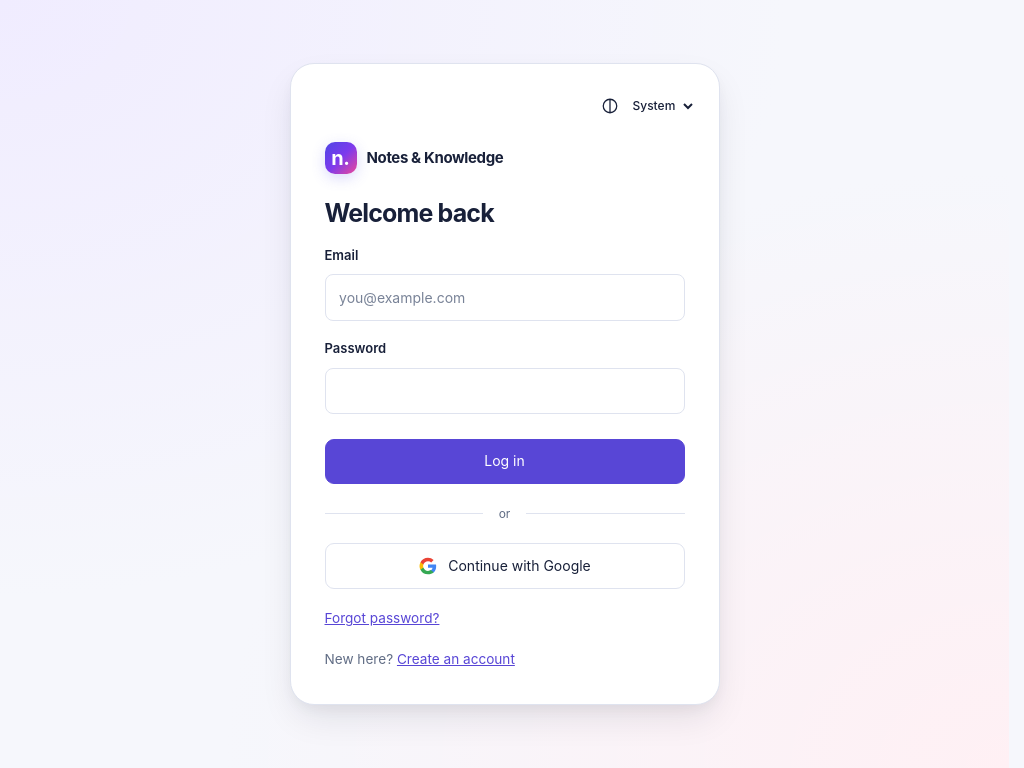
Test: authentication browser journey › logs in without MFA and refreshes CSRF
expect the heading "Welcome back" is shown: met, box [324, 198, 494, 228]
Step 1. Type "person@example.test" into the field labelled "Email" → (504, 298), box [324, 274, 684, 321]
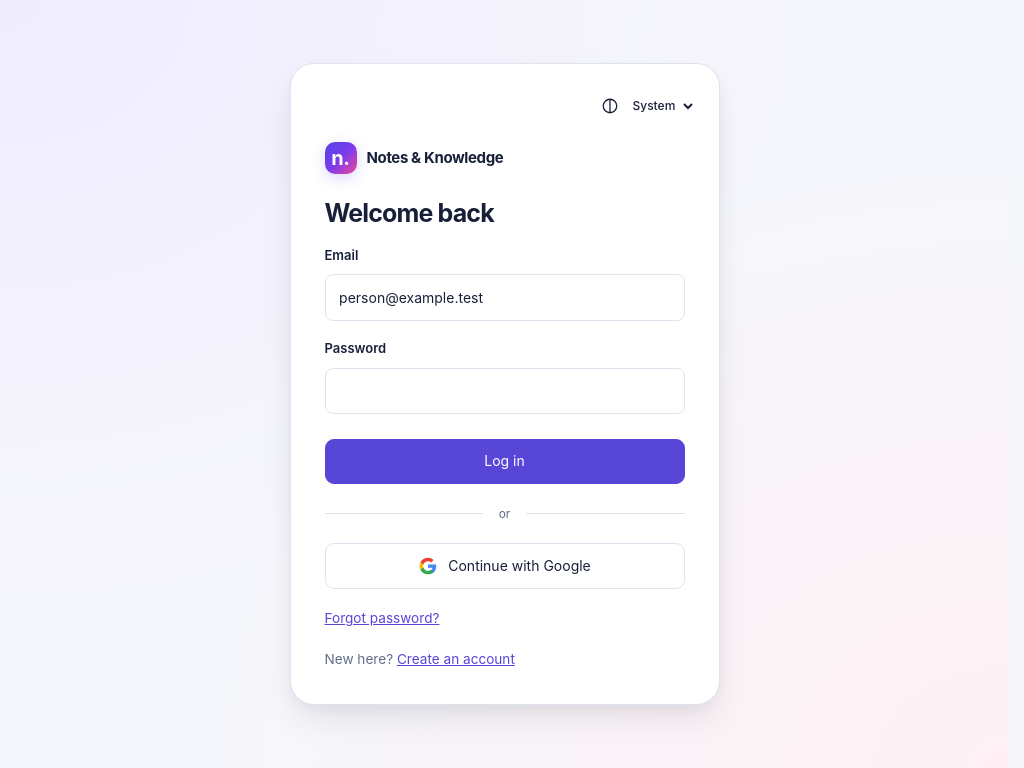
Step 2. Type "Synthetic-password-123!" into the password field labelled "Password" → (504, 391), box [324, 368, 684, 414]
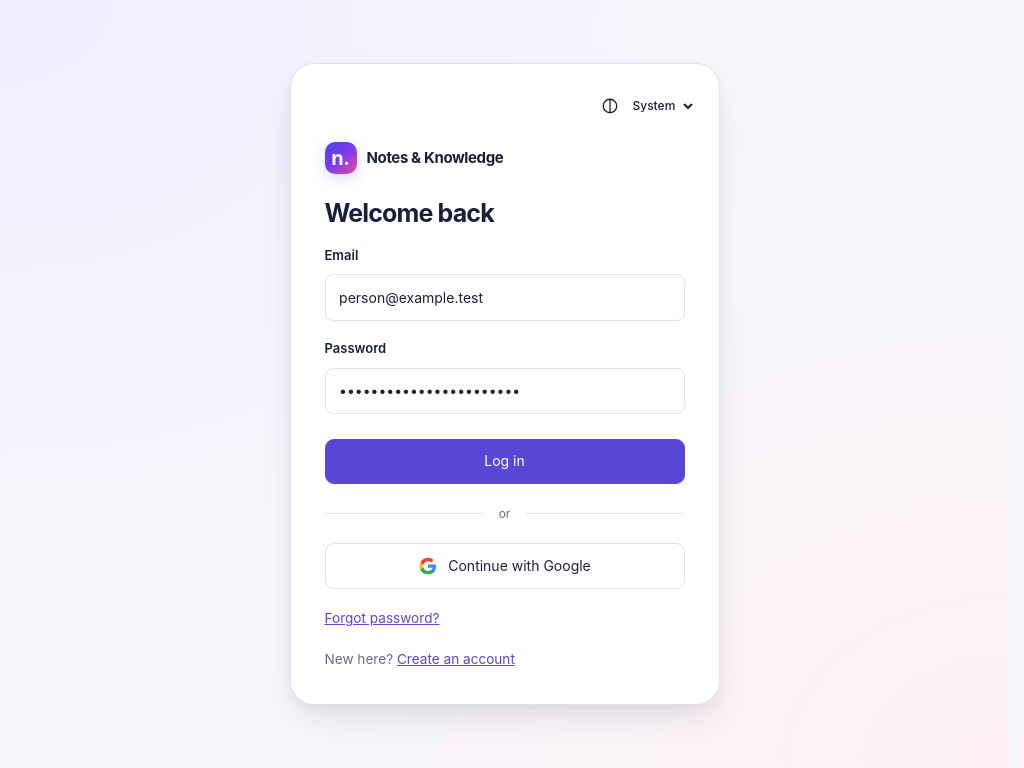
Step 3. Click the button "Log in" → (504, 462), box [324, 439, 684, 484]
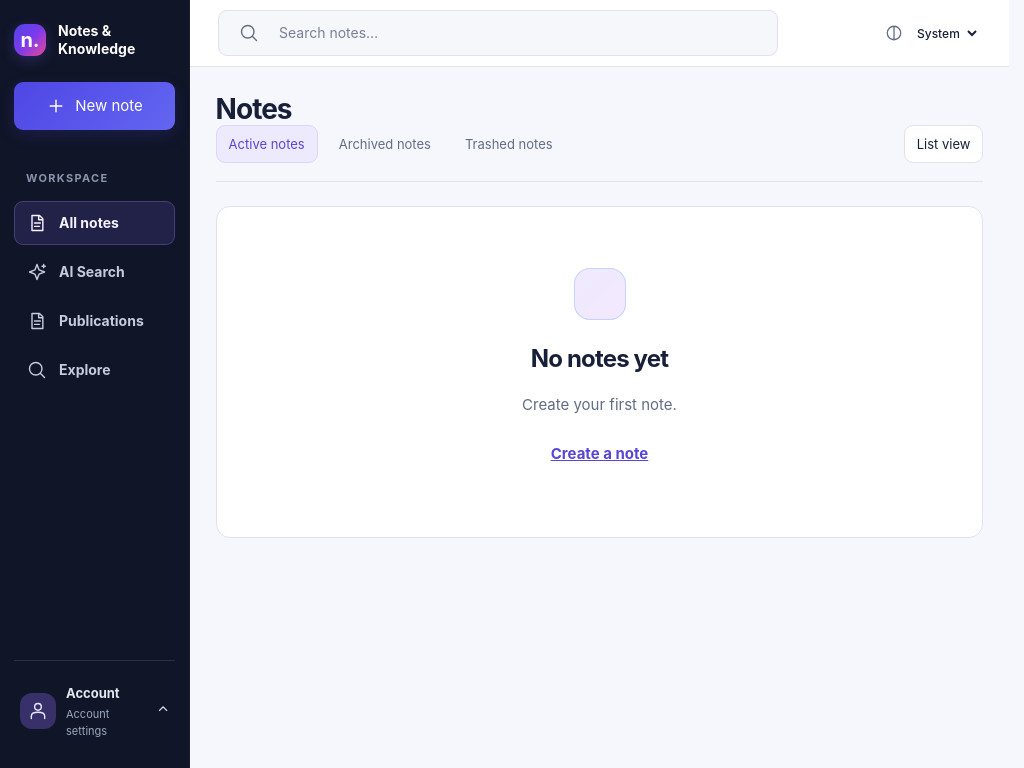
expect the heading "Notes" is shown: met, box [216, 93, 292, 125]
